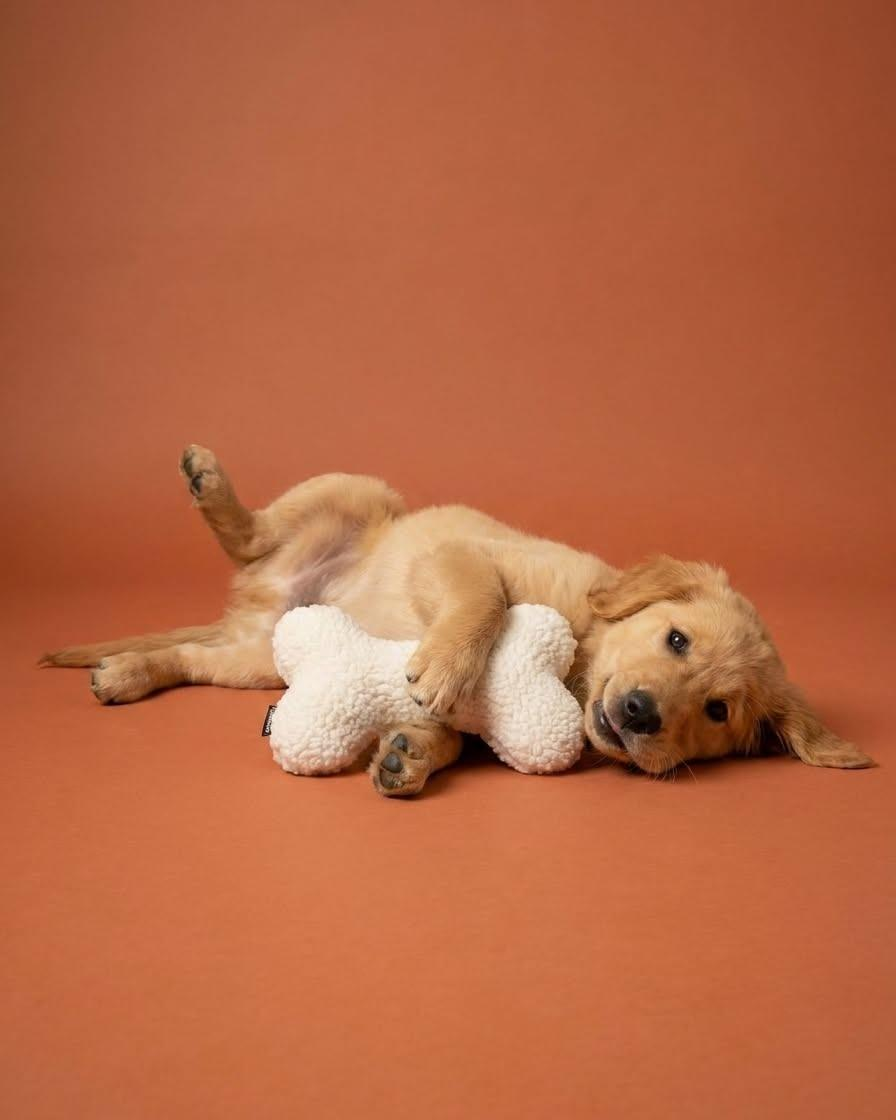puppy-dog: (37, 442, 879, 797)
